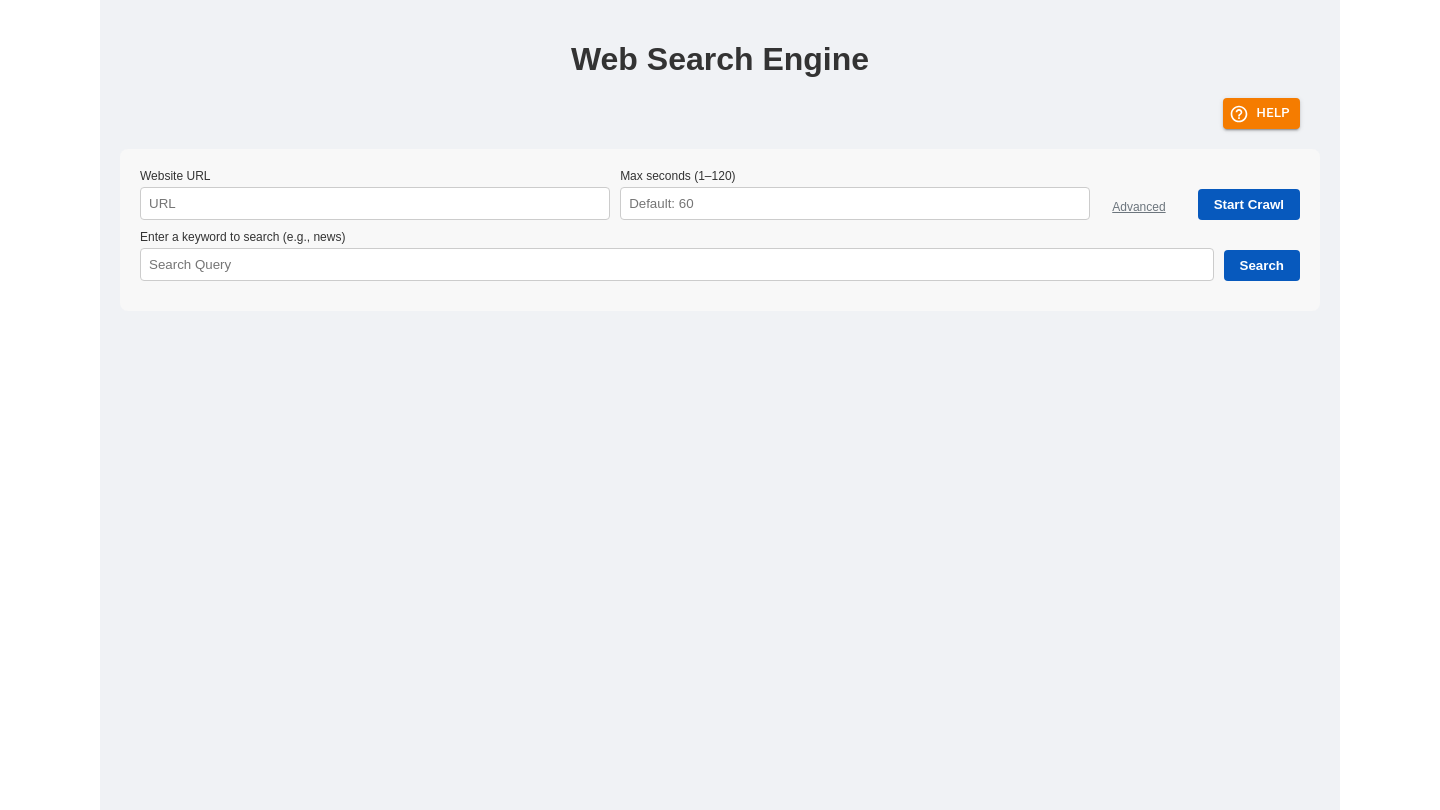
Test: filters old URL limits from history and reveals an invalid hidden setting
The image size is (1440, 810).
Type "example.com" into the field labelled "Website URL" at (375, 204), box [140, 187, 610, 220]
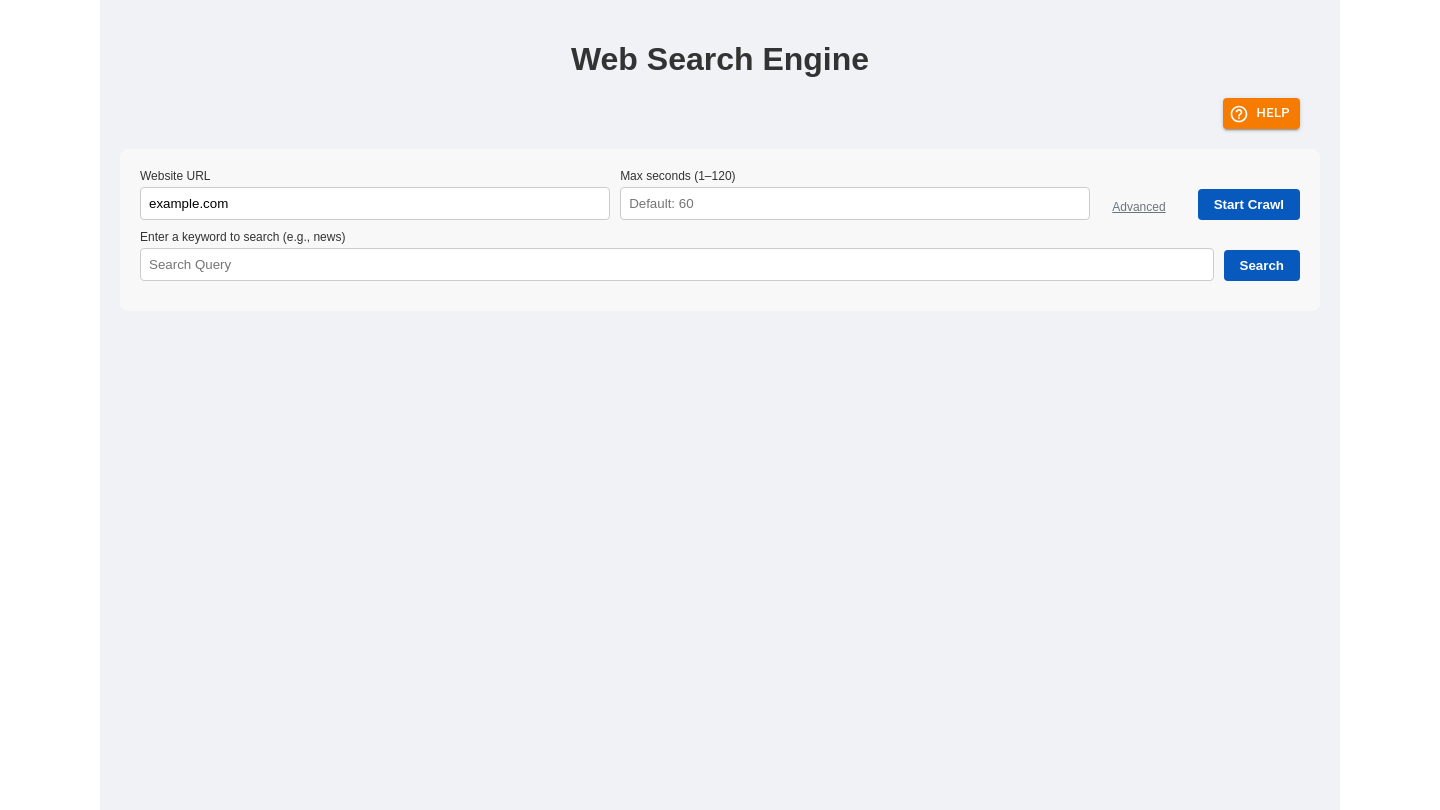
Click the button "Advanced" at (1139, 207), box [1100, 194, 1178, 220]
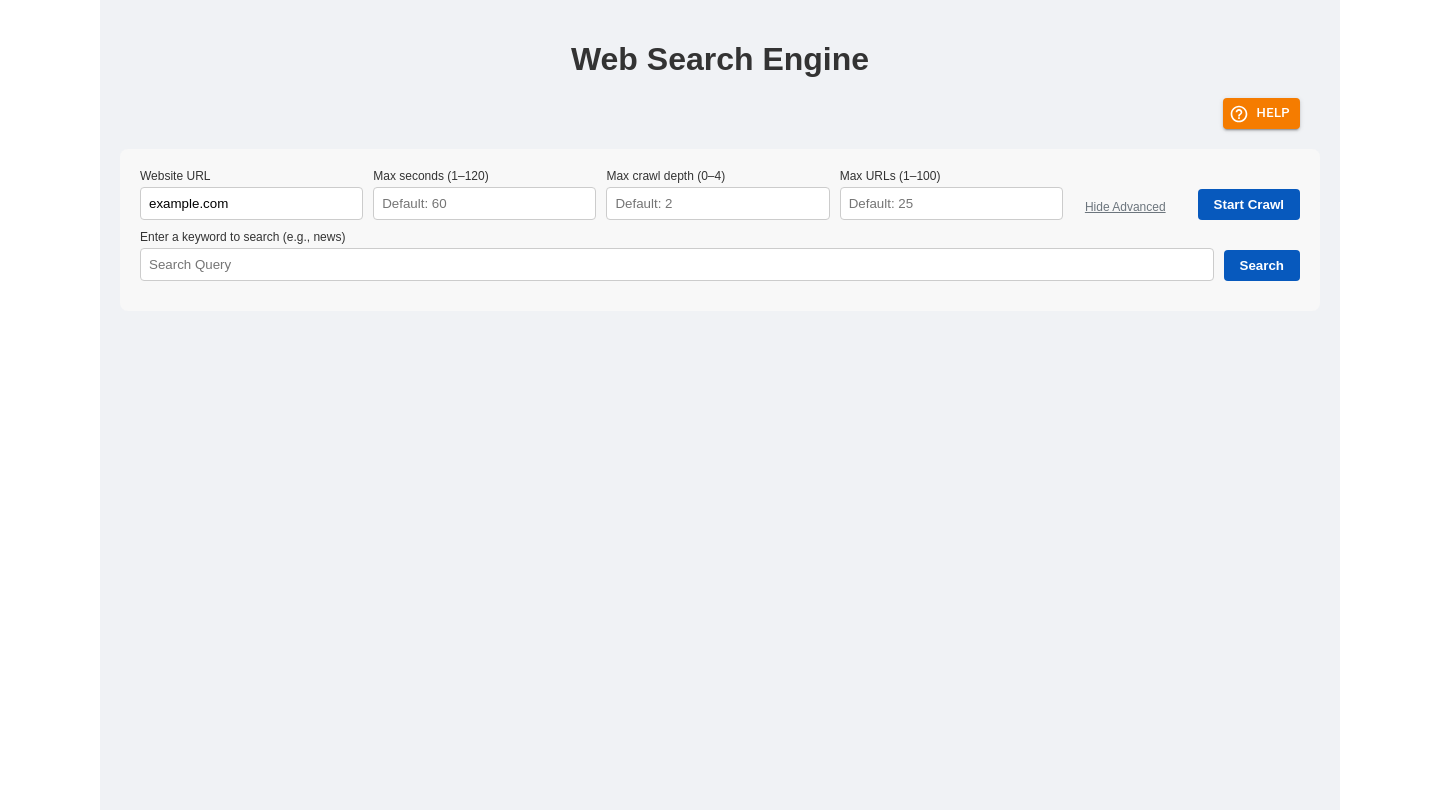
Type "101" into the number field labelled "Max URLs (1–100)" at (951, 204), box [840, 187, 1063, 220]
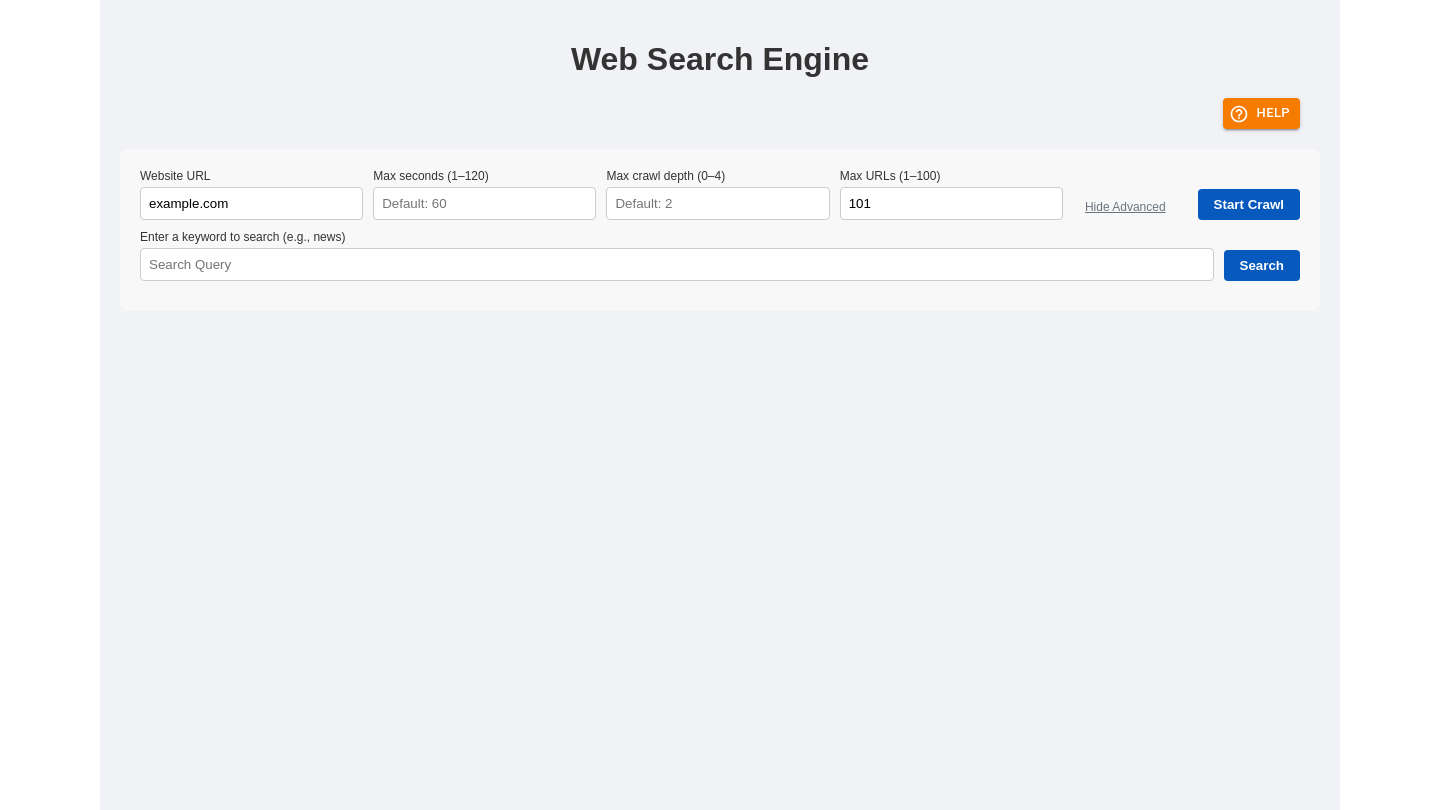
Click the button "Hide Advanced" at (1125, 207), box [1073, 194, 1178, 220]
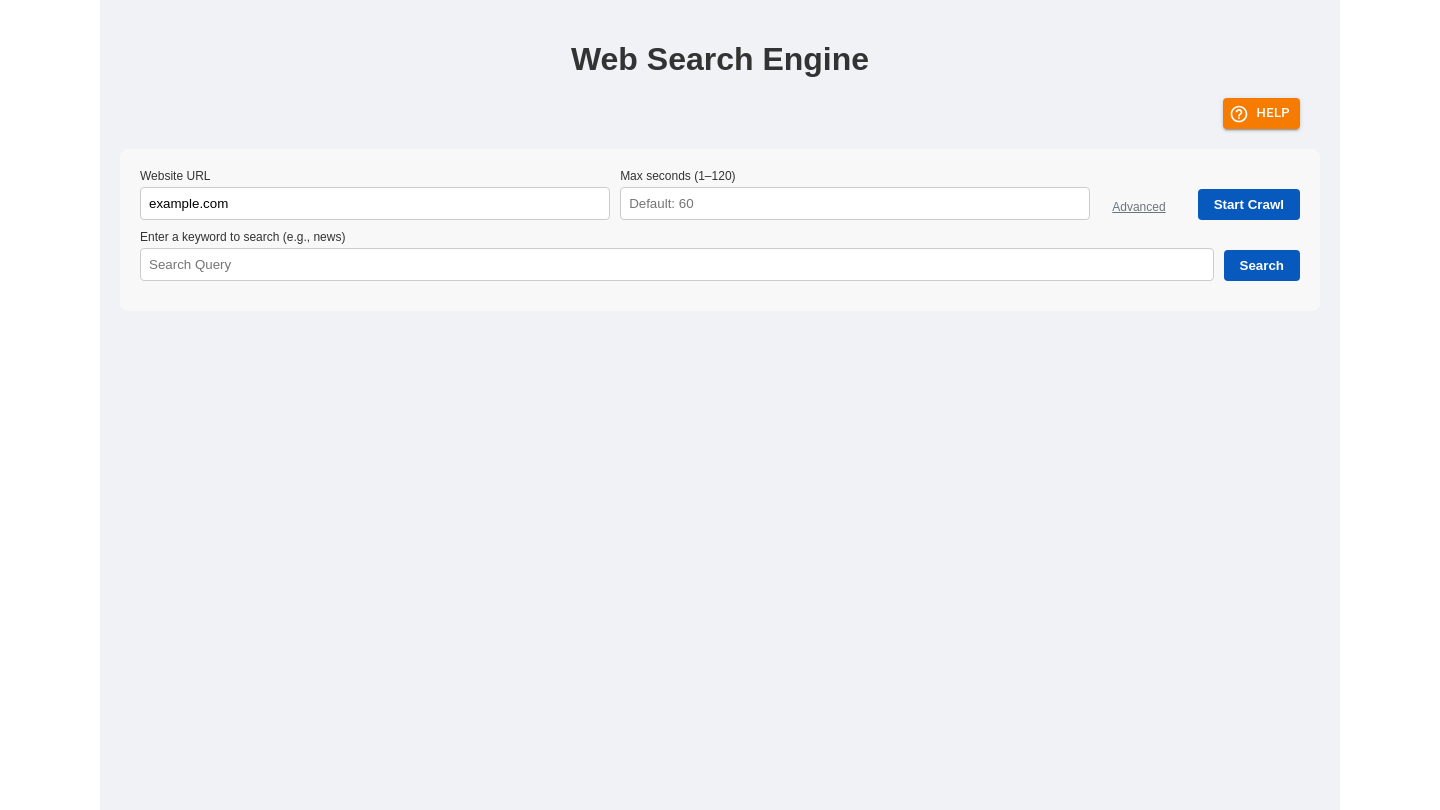
Submit the form labelled "Website URL", box [140, 169, 1300, 220]
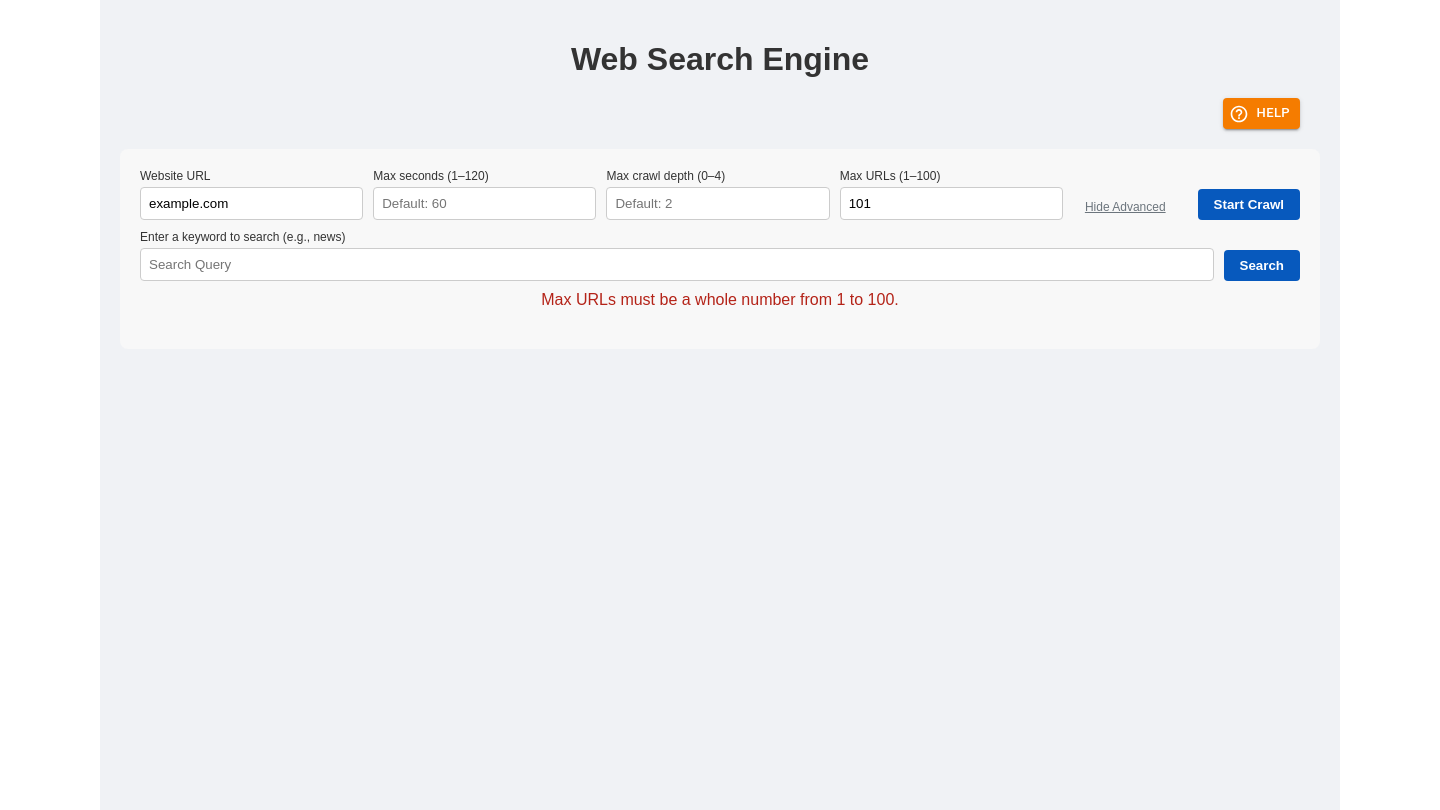
Expected: the number field labelled "Max URLs (1–100)" is shown, [840, 187, 1063, 220]
Expected: the message reads "Max URLs must be a whole number from 1 to 100.", [541, 291, 899, 308]
